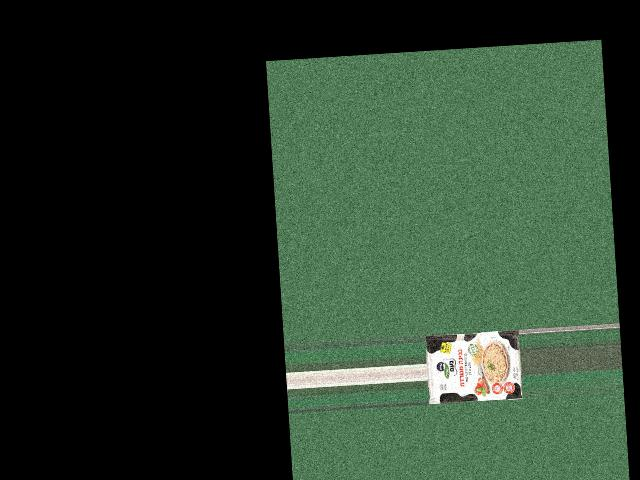cheese: (431, 328, 519, 416)
